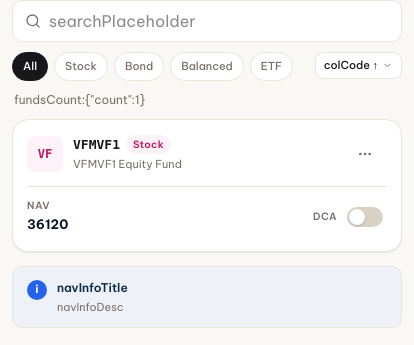
Test: MobileFundLibraryView — fund card › exposes localized edit/delete/DCA accessible names (uses t(), not hardcoded English)
Expected: the button named "enableDca" is shown, x1=343 y1=194 x2=387 y2=238
Click the button named "fundActions" at [365, 154], box x1=343 y1=132 x2=387 y2=176
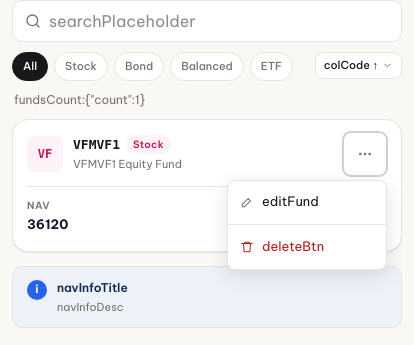
Now the menu item "editFund" is shown, box x1=228 y1=180 x2=386 y2=224
Now the menu item "deleteBtn" is shown, box x1=228 y1=224 x2=386 y2=268
